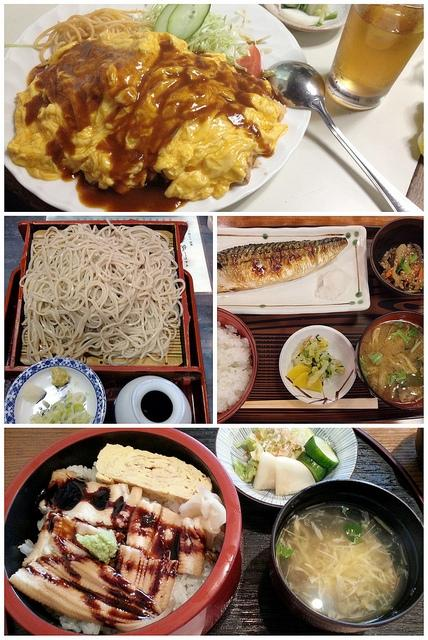cucumber: (166, 4, 212, 40), (303, 436, 339, 468), (296, 451, 328, 483), (152, 4, 178, 32)
